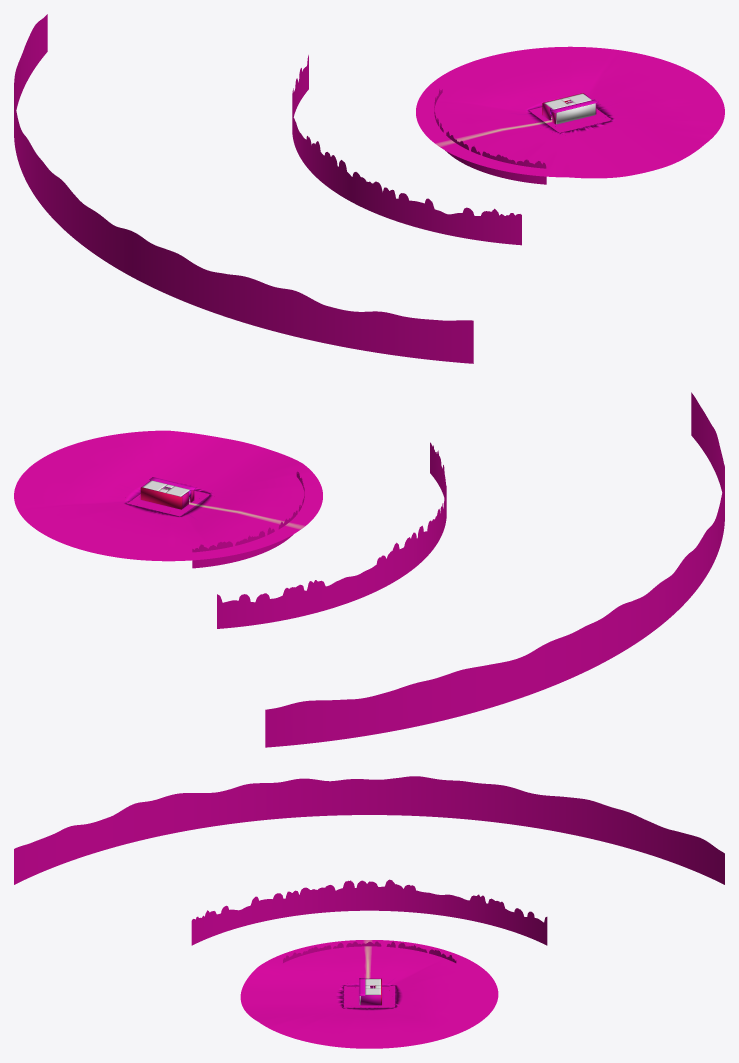
File: court_set_mudbrick_hall.glb
3 renders of one model, top to bottom at view 1: azimuth 30°, elevation 25°; view 2: azimuth 150°, elevation 25°; view 3: azimuth 270°, elevation 25°, orthographic. The views are drawn at different scales.
Visible parts, largest first — view 1: Ground, Far2, Far1, Far0, ShadowCaster; view 2: Ground, Far2, Far1, Far0, Walls; view 3: Far2, Ground, Far1, Far0.
Boxes of the visible parts, x1=… form: Ground: x1=416, y1=46, x2=724, y2=178; Far2: x1=14, y1=14, x2=473, y2=363; Far1: x1=292, y1=55, x2=521, y2=245; Far0: x1=434, y1=89, x2=546, y2=184; ShadowCaster: x1=551, y1=99, x2=598, y2=124; Ground: x1=14, y1=430, x2=322, y2=561; Far2: x1=265, y1=392, x2=724, y2=747; Far1: x1=217, y1=442, x2=446, y2=628; Far0: x1=192, y1=471, x2=304, y2=568; Walls: x1=140, y1=480, x2=194, y2=509; Far2: x1=14, y1=776, x2=724, y2=884; Ground: x1=240, y1=940, x2=498, y2=1048; Far1: x1=191, y1=879, x2=547, y2=945; Far0: x1=283, y1=941, x2=456, y2=962.
Bounding box in the file's own units: 230 × 17.04 × 276.
